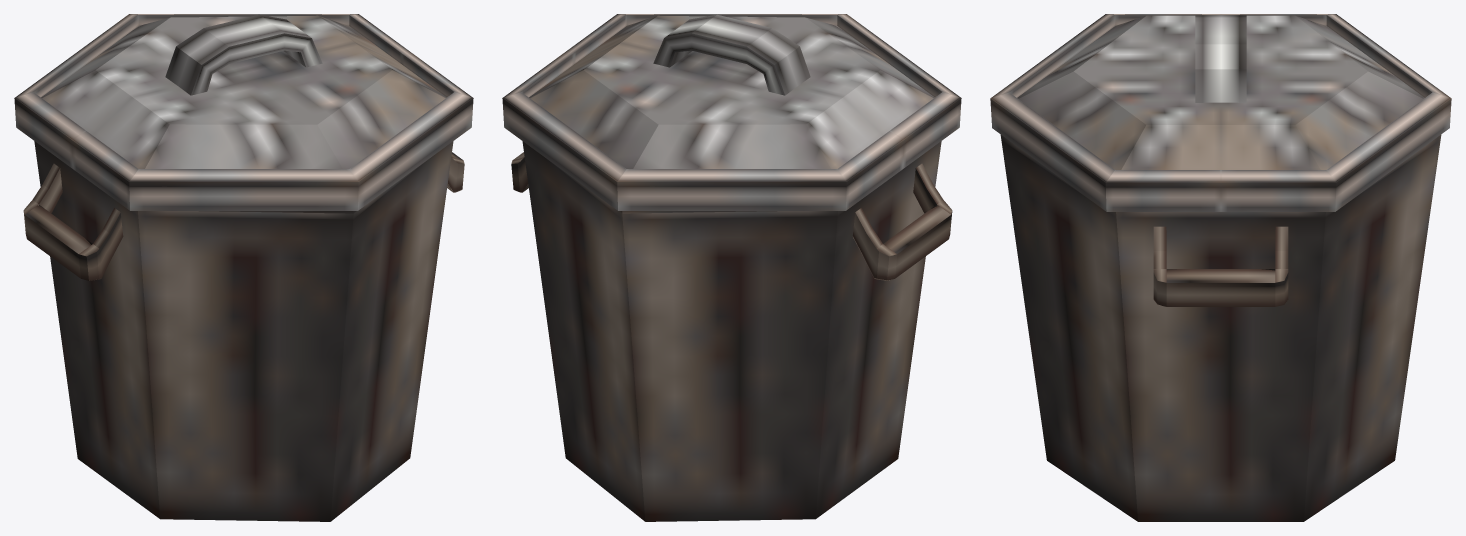
File: Poly_SF_Outside_B_Garbage_Can_01.obj
3 views of the same model, side by side, from view 1: azimuth 30°, elevation 25°; view 2: azimuth 150°, elevation 25°; view 3: azimuth 270°, elevation 25° (orthographic).
Visible parts, largest first — view 1: Cube.001, Cube.002, Cube.003; view 2: Cube.001, Cube.002, Cube.003; view 3: Cube.001, Cube.002, Cube.003.
Part boxes in pixels (x1=…): Cube.001: x1=34, y1=141, x2=453, y2=521; Cube.002: x1=14, y1=14, x2=473, y2=210; Cube.003: x1=23, y1=152, x2=464, y2=280; Cube.001: x1=522, y1=141, x2=941, y2=521; Cube.002: x1=502, y1=14, x2=961, y2=210; Cube.003: x1=511, y1=152, x2=952, y2=280; Cube.001: x1=1000, y1=135, x2=1441, y2=521; Cube.002: x1=990, y1=14, x2=1451, y2=211; Cube.003: x1=1153, y1=226, x2=1288, y2=306.
Size of the model in its own units: 0.6971 by 0.7406 by 0.7202.
Materials: 1 (1 with a texture image).
